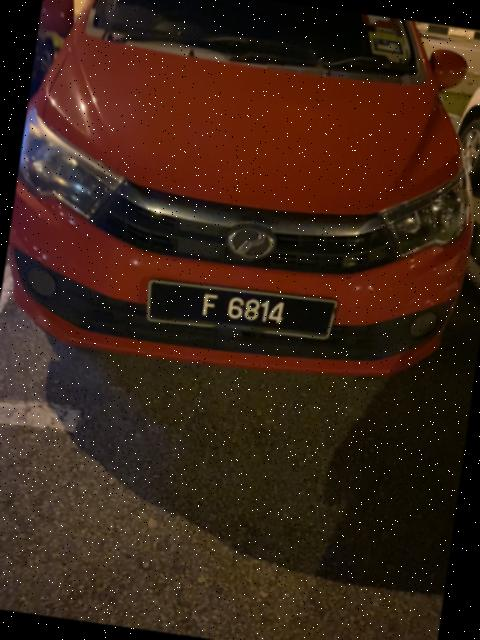License_Plate: (143, 274, 340, 351)
car: (1, 1, 480, 413)
